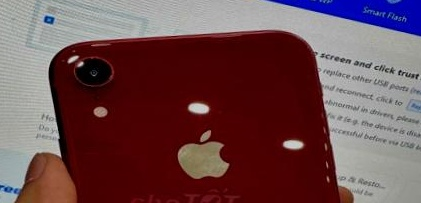scratch: (147, 74, 240, 149), (86, 53, 101, 63), (103, 69, 115, 80)
